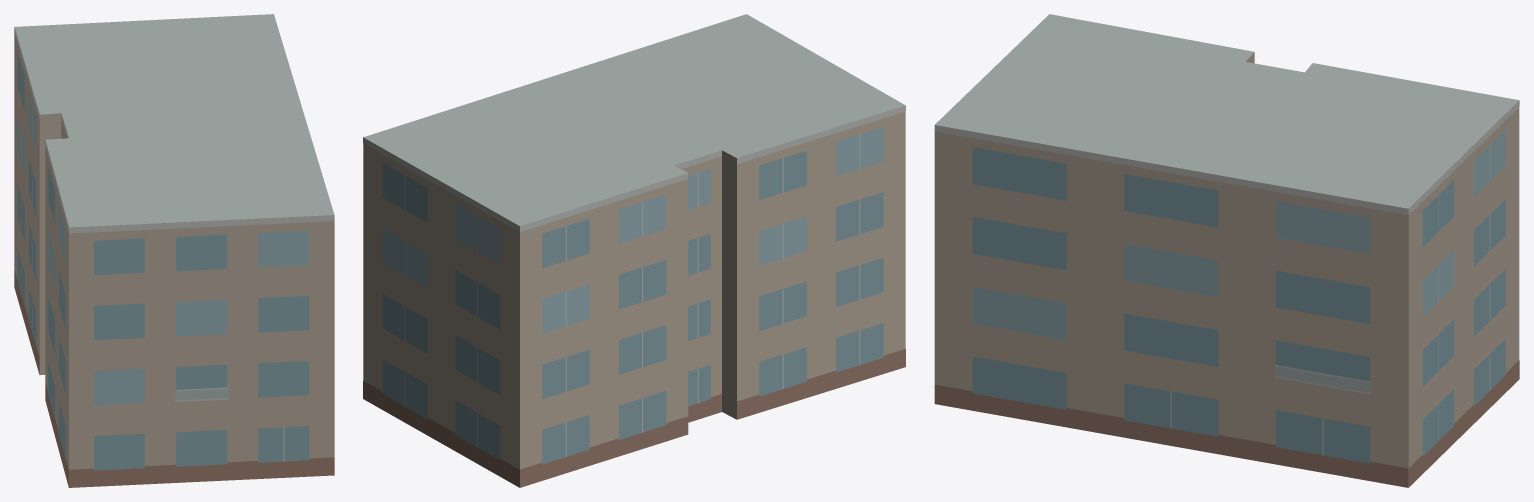
File: survey-upis-33003469.glb
3 renders of one model, left to right at view 1: azimuth 30°, elevation 25°; view 2: azimuth 150°, elevation 25°; view 3: azimuth 270°, elevation 25°, orthographic. The views are drawn at different scales.
Visible parts, largest first — view 1: survey-upis-33003469.tmp; view 2: survey-upis-33003469.tmp; view 3: survey-upis-33003469.tmp.
Boxes of the visible parts, x1=… form: survey-upis-33003469.tmp: x1=14, y1=14, x2=334, y2=487; survey-upis-33003469.tmp: x1=363, y1=14, x2=905, y2=487; survey-upis-33003469.tmp: x1=934, y1=14, x2=1519, y2=487.
Size of the model in its own units: 15.73 by 10.5 by 19.95.
